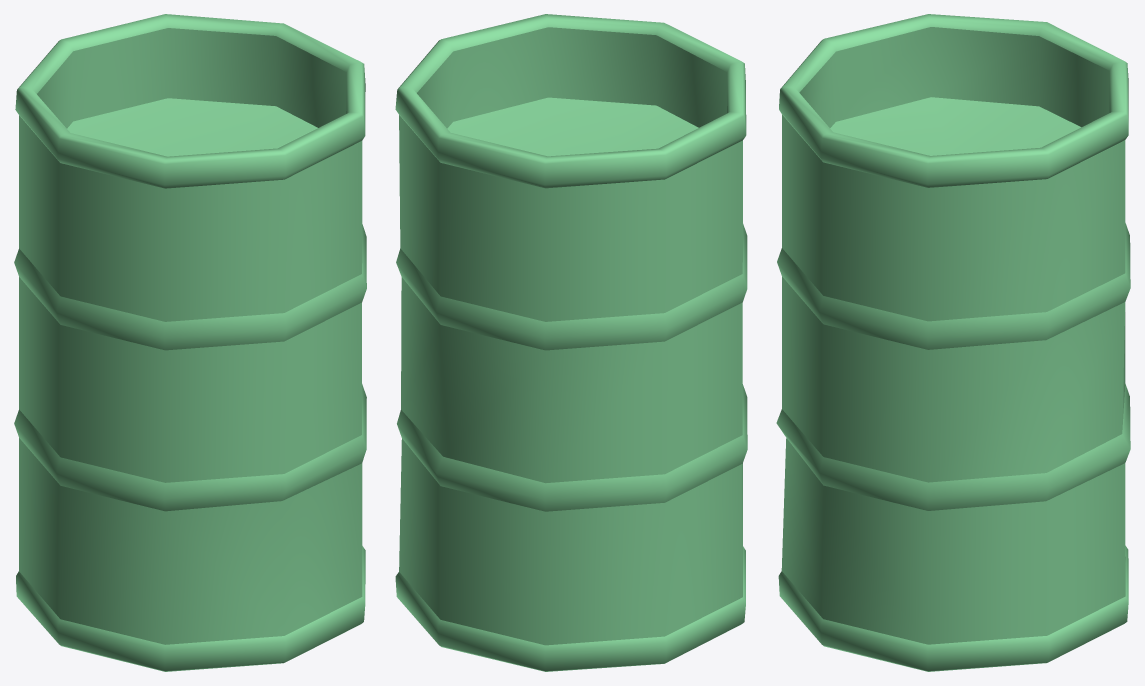
File: BarrelWithPaint.fbx
The picture shows the model from 3 angles, left to right: view 1: azimuth 30°, elevation 25°; view 2: azimuth 150°, elevation 25°; view 3: azimuth 270°, elevation 25°; orthographic projection.
Visible parts, largest first — view 1: BarrelWIthPaint; view 2: BarrelWIthPaint; view 3: BarrelWIthPaint.
Part boxes in pixels (x1,y1,x2,y2): BarrelWIthPaint: [14, 14, 366, 671]; BarrelWIthPaint: [395, 14, 747, 671]; BarrelWIthPaint: [776, 14, 1130, 671].
Bounding box in the file's own units: 101 × 159 × 99.91.
